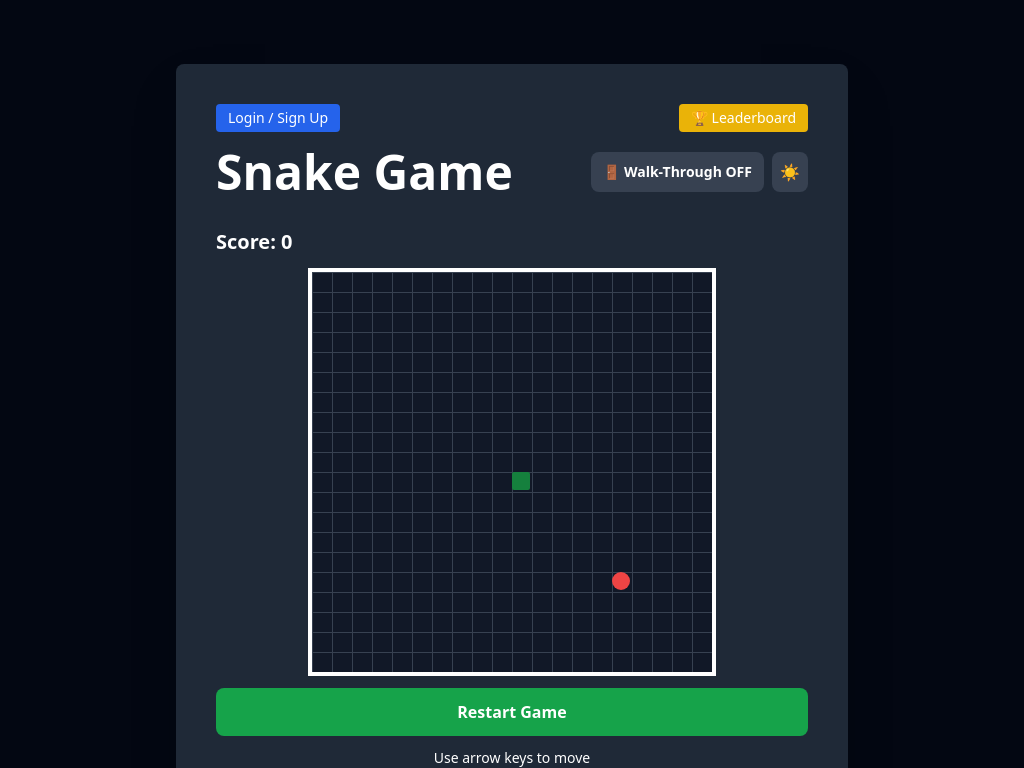
Test: SnakeGame Component › should toggle theme when theme button is clicked
Click the button "☀️" at [790, 172], box [772, 152, 808, 192]
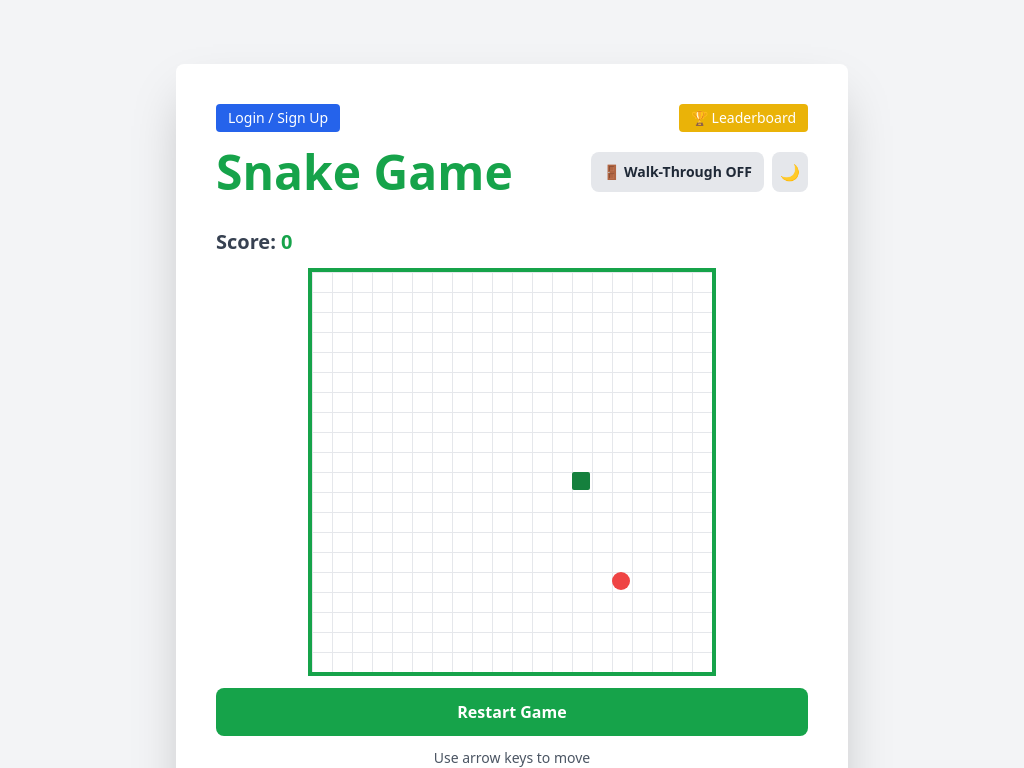
Expected: the button "🌙" is shown, [772, 152, 808, 192]
